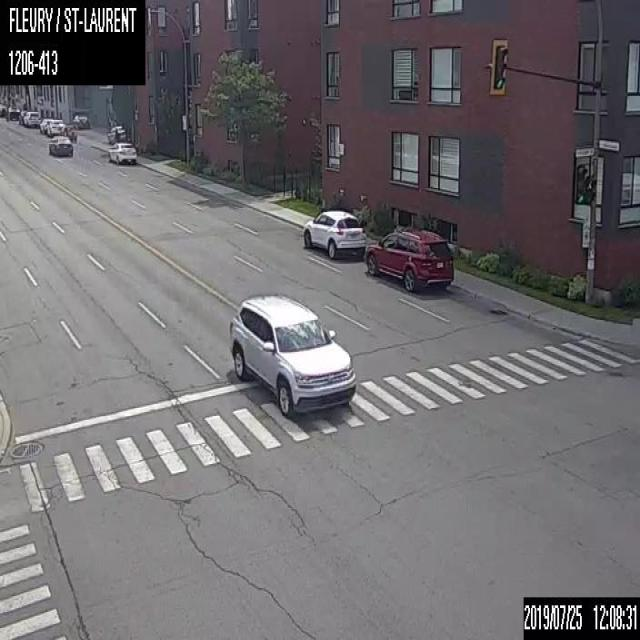vehicle: (228, 291, 356, 418), (363, 228, 456, 291), (302, 208, 365, 260), (108, 141, 136, 164), (47, 135, 73, 156), (46, 118, 64, 136), (107, 125, 125, 141), (23, 111, 41, 126), (72, 114, 89, 128), (39, 117, 52, 132)
